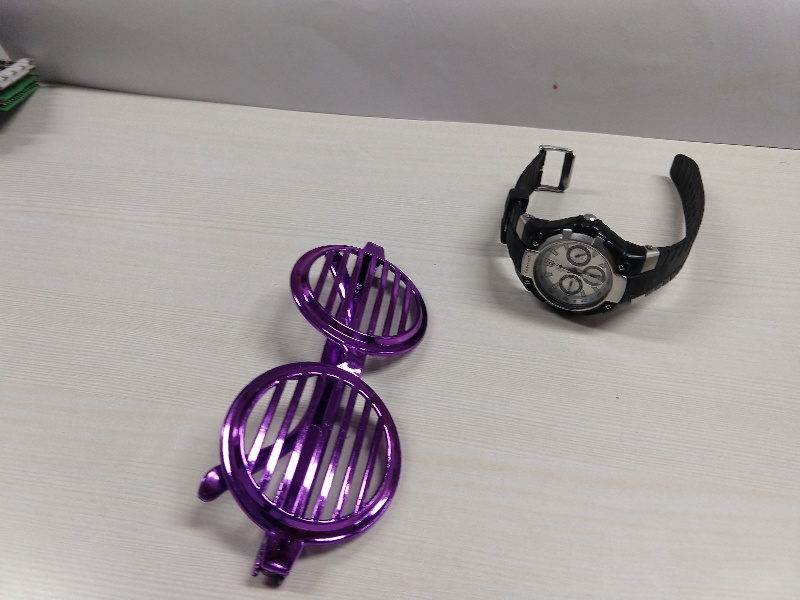shades: (190, 227, 431, 588)
watch: (493, 138, 721, 319)
